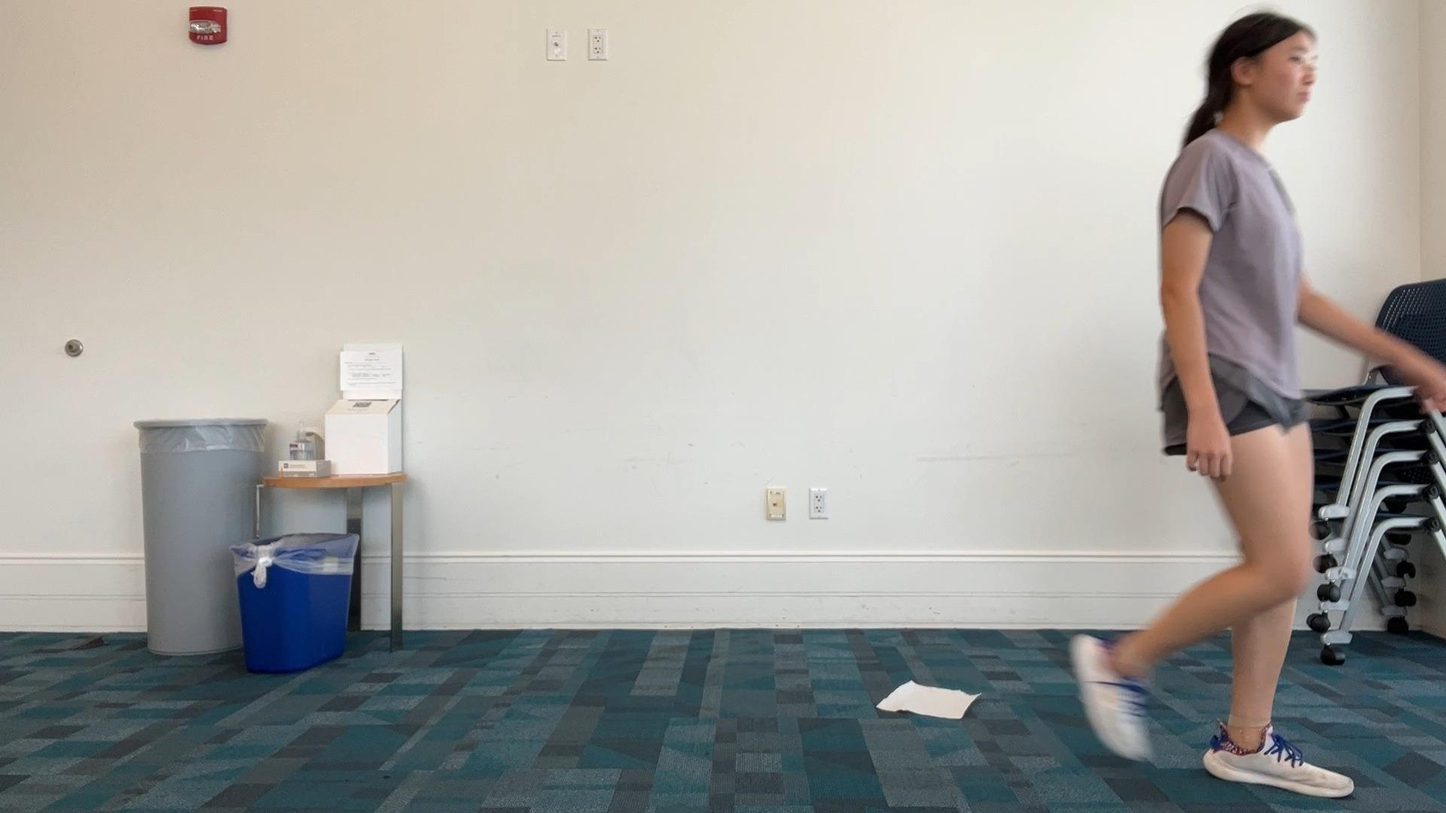Trash: (860, 659, 1002, 733)
